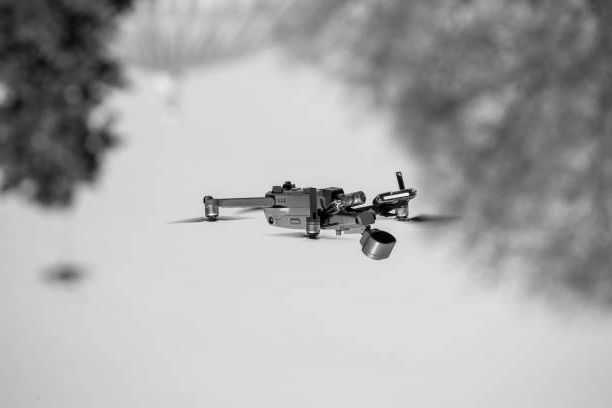Drone: (169, 170, 467, 265)
